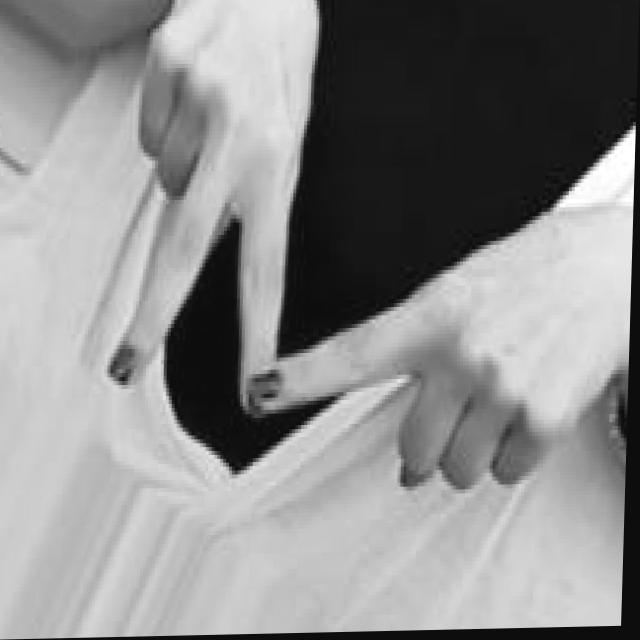N: (103, 0, 640, 509)
